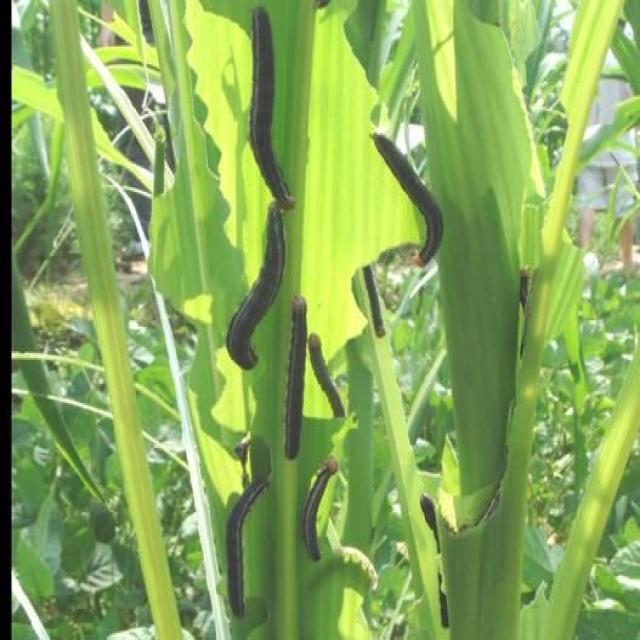army worm: (247, 7, 301, 213), (370, 127, 444, 274), (226, 201, 269, 372), (221, 464, 264, 621), (285, 298, 314, 469), (301, 459, 341, 560)
